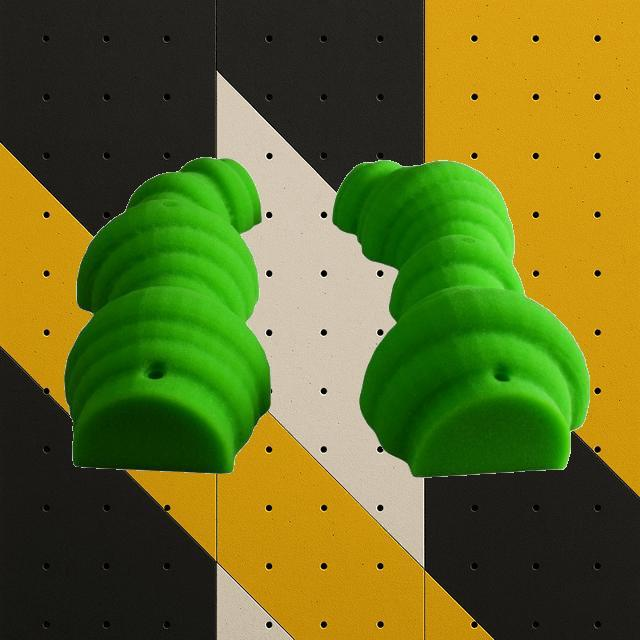Pinch: (330, 158, 590, 478), (64, 154, 272, 473)
